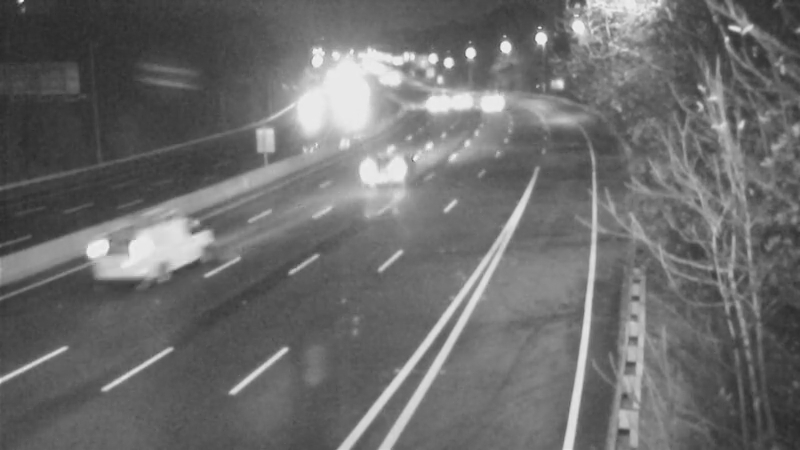vehicle: (348, 124, 428, 204), (87, 213, 167, 293), (476, 73, 526, 123), (443, 72, 493, 122), (407, 75, 457, 125), (287, 85, 337, 135)
